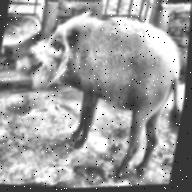boar: (0, 0, 191, 185)
